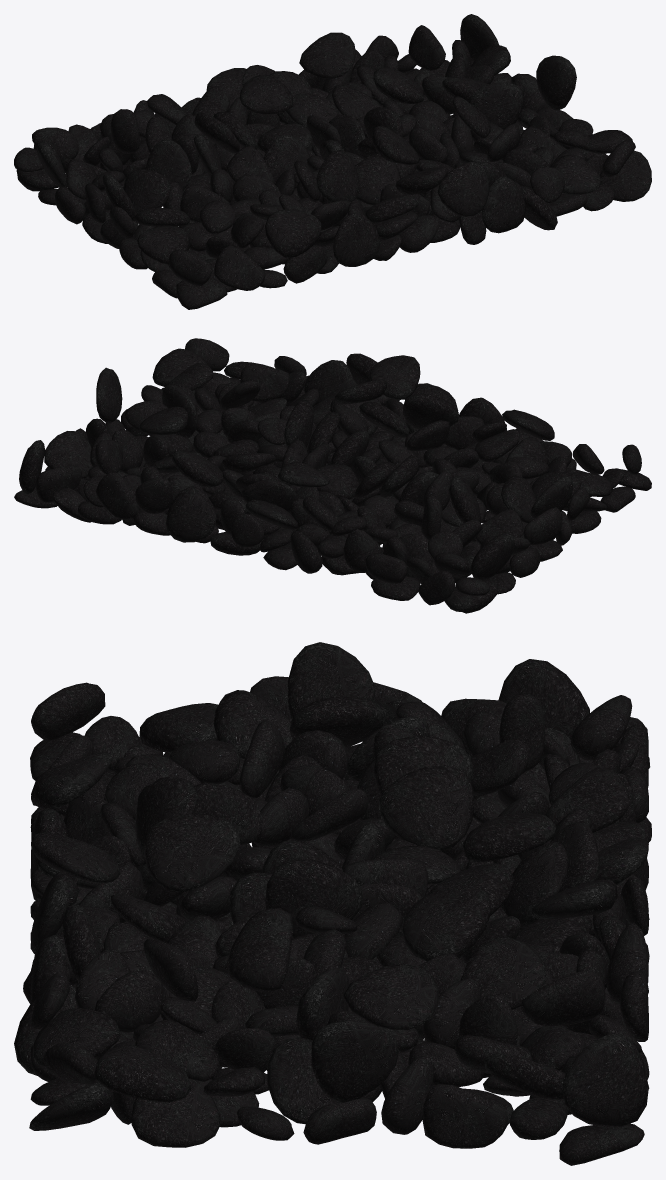
Rendered from Pebbles_black_80 x 40.gltf.
The picture shows the model from 3 angles, top to bottom: view 1: azimuth 30°, elevation 25°; view 2: azimuth 150°, elevation 25°; view 3: azimuth 270°, elevation 25°; orthographic projection. The views are drawn at different scales.
Parts seen in each view (by area): view 1: Pebbles_black 80 short; view 2: Pebbles_black 80 short; view 3: Pebbles_black 80 short.
Boxes of the visible parts, box(x1,y1,x2,y2) form: Pebbles_black 80 short: box(14, 14, 651, 309); Pebbles_black 80 short: box(14, 338, 651, 613); Pebbles_black 80 short: box(14, 642, 651, 1165).
Size of the model in its own units: 0.6045 by 0.1166 by 0.4113.
1 material, 1 textured.
